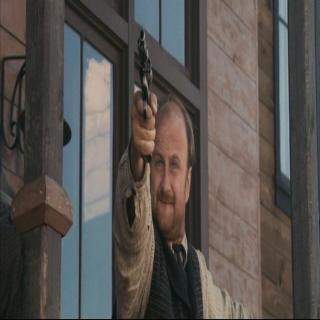gun: (130, 10, 167, 170)
